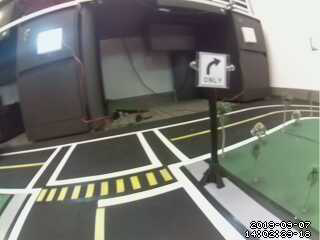Right_only_sign: (192, 50, 231, 93)
